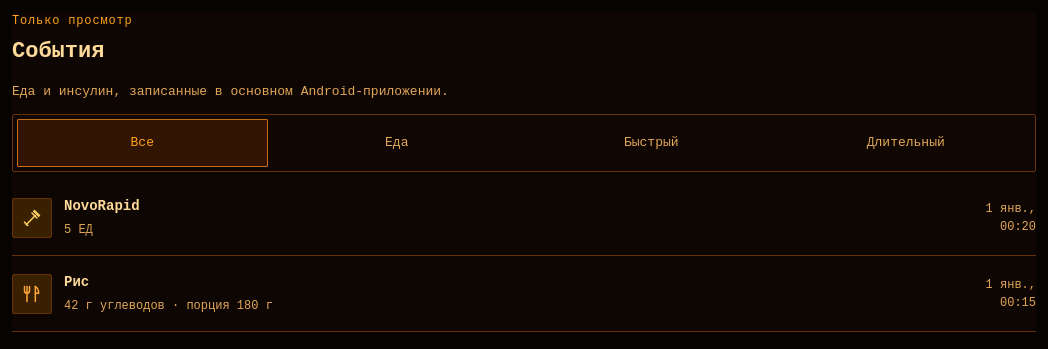
Test case: EventsView › filters events through pressed, labelled touch controls
Expected: the text "Рис" is shown, [64,274,89,290]
Expected: the text "NovoRapid" is shown, [64,198,140,214]
Click the button "Еда" at (397, 143), box [272,119,522,167]
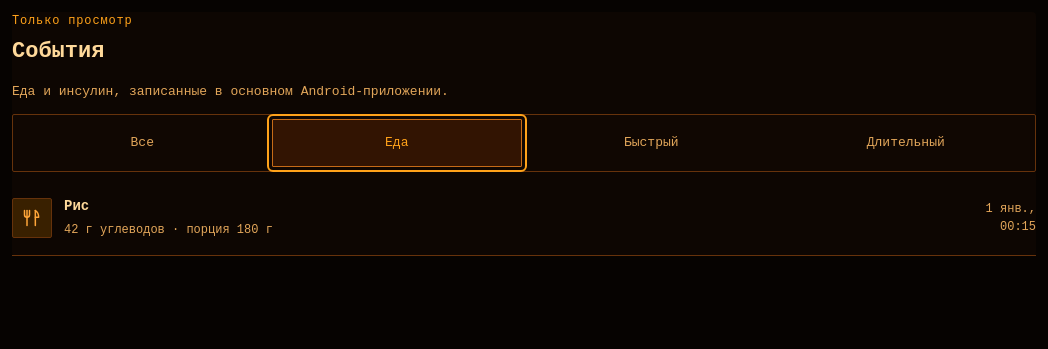
Expected: the text "NovoRapid" is gone
